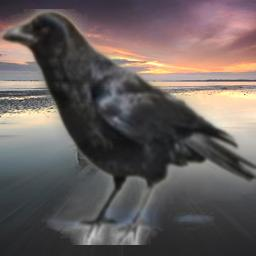Crow: (0, 9, 256, 245)
